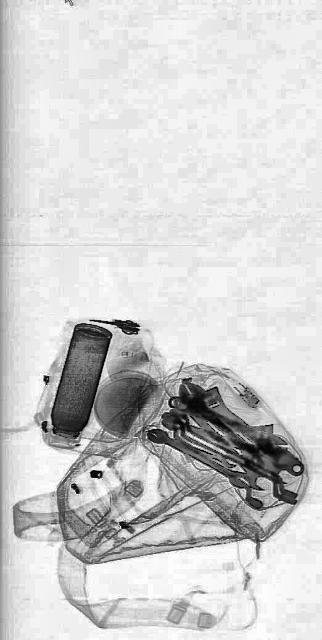Wrench: (176, 363, 308, 491), (147, 422, 239, 484), (216, 429, 270, 498)
